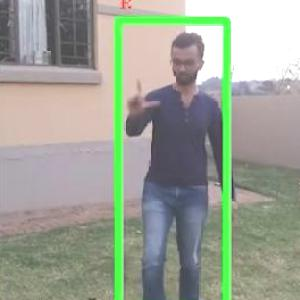land_hand: (120, 72, 162, 118)
